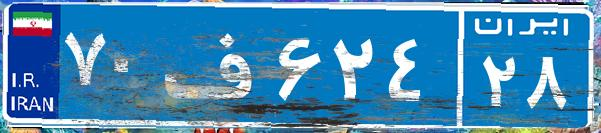0: (110, 28, 158, 105)
2: (330, 28, 385, 110), (475, 38, 525, 113)
4: (385, 28, 445, 110)
6: (273, 28, 330, 110)
7: (57, 26, 110, 107)
8: (525, 38, 570, 115)
ف: (158, 15, 273, 115)
